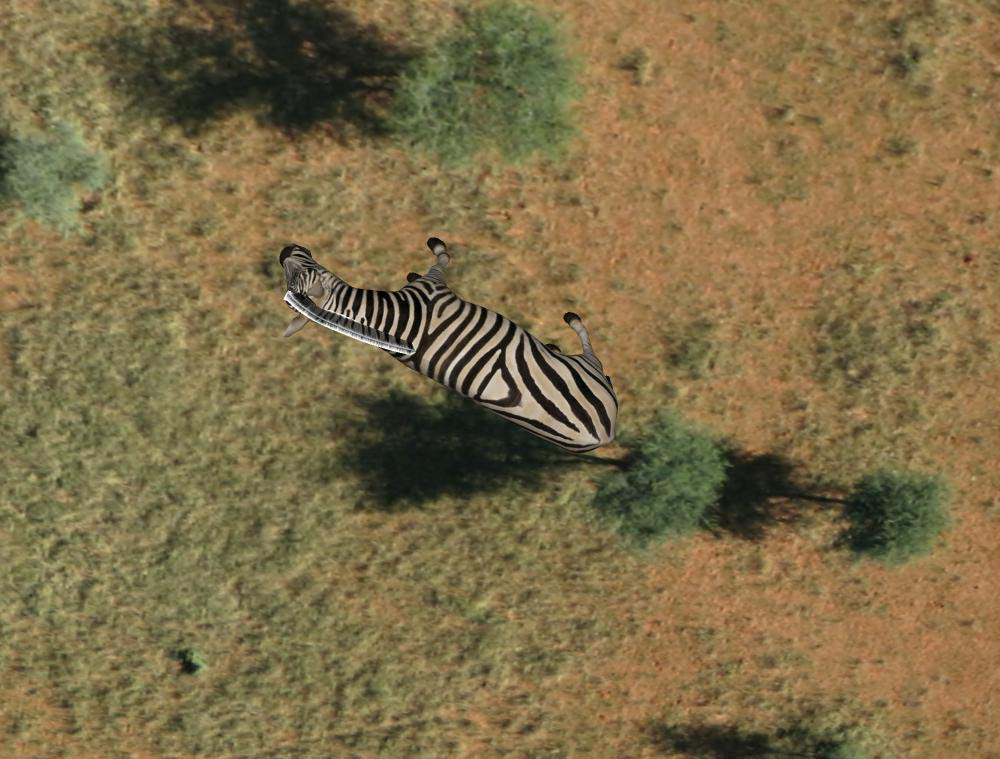zebra: (277, 215, 623, 453)
